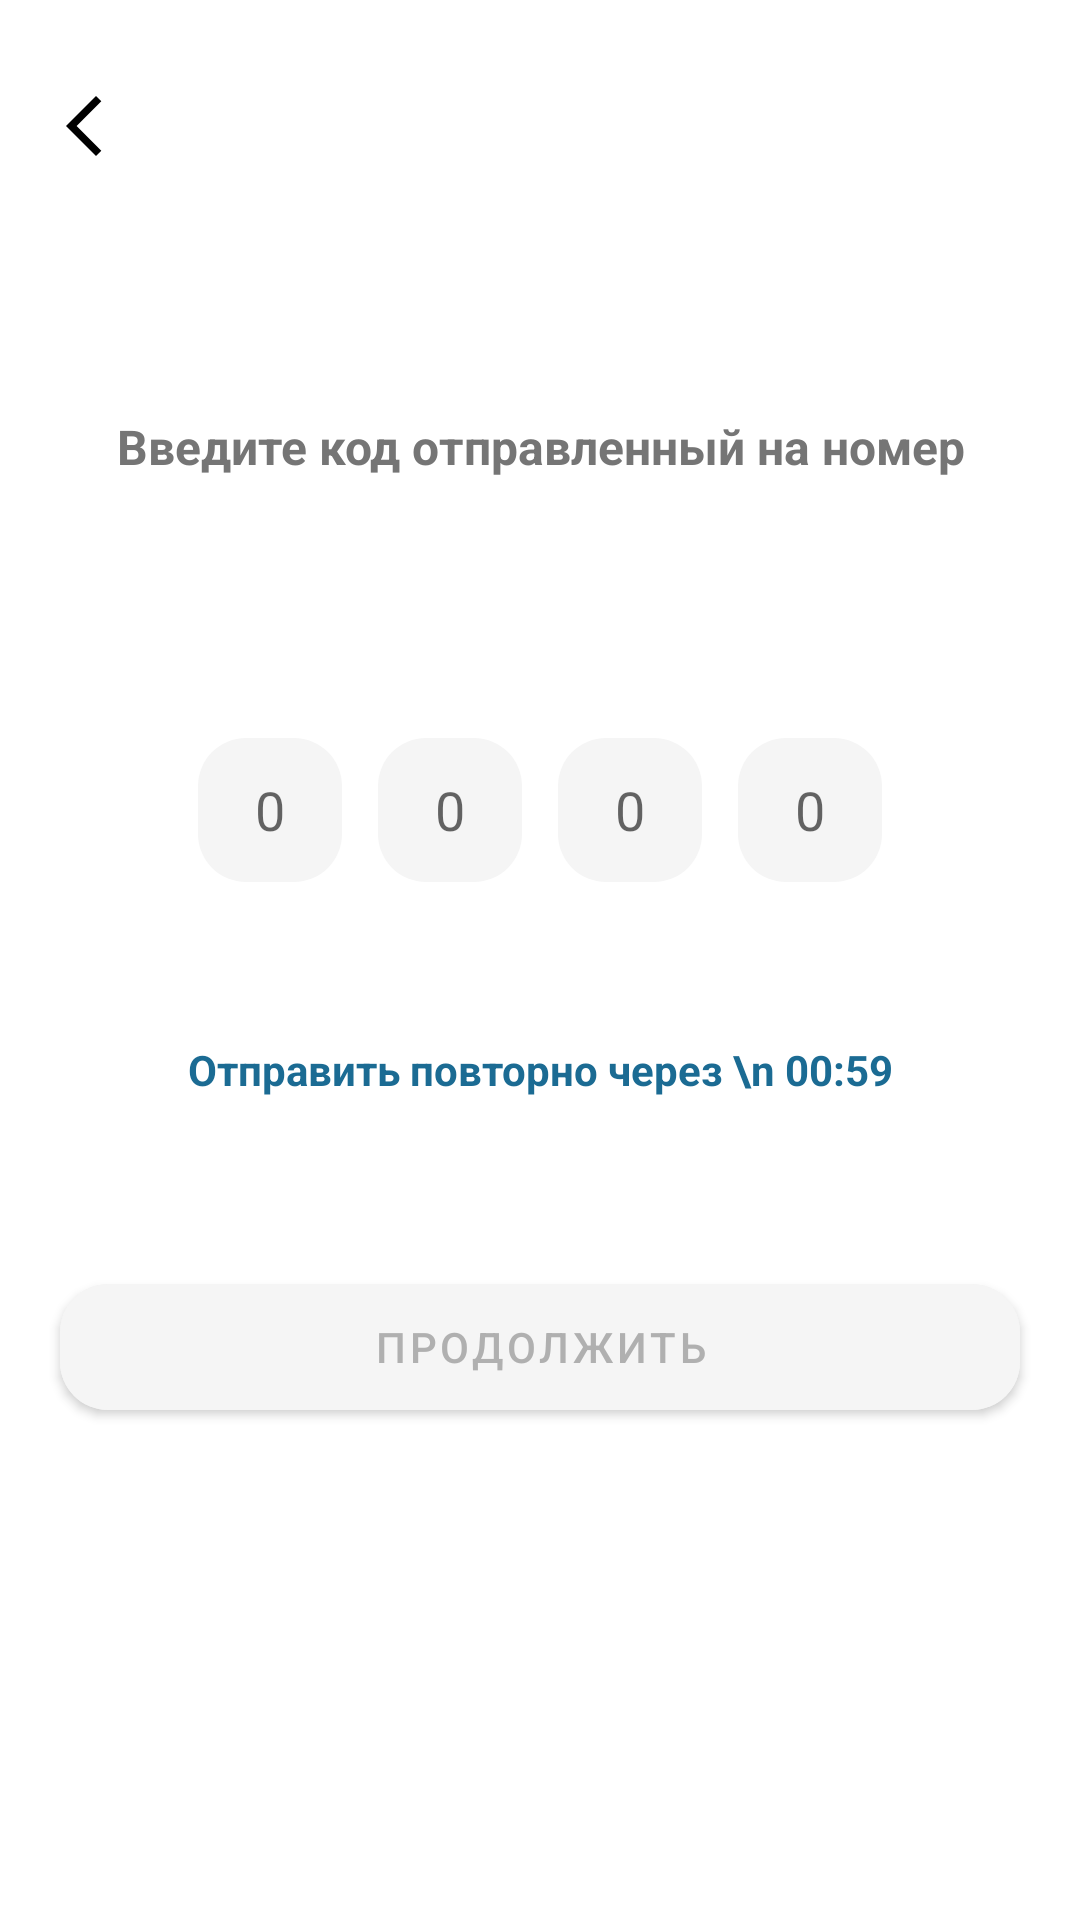

Named icons in this screenshot (1080*1920) and their centers, point (x, y):
arrow back: point (83, 126)
